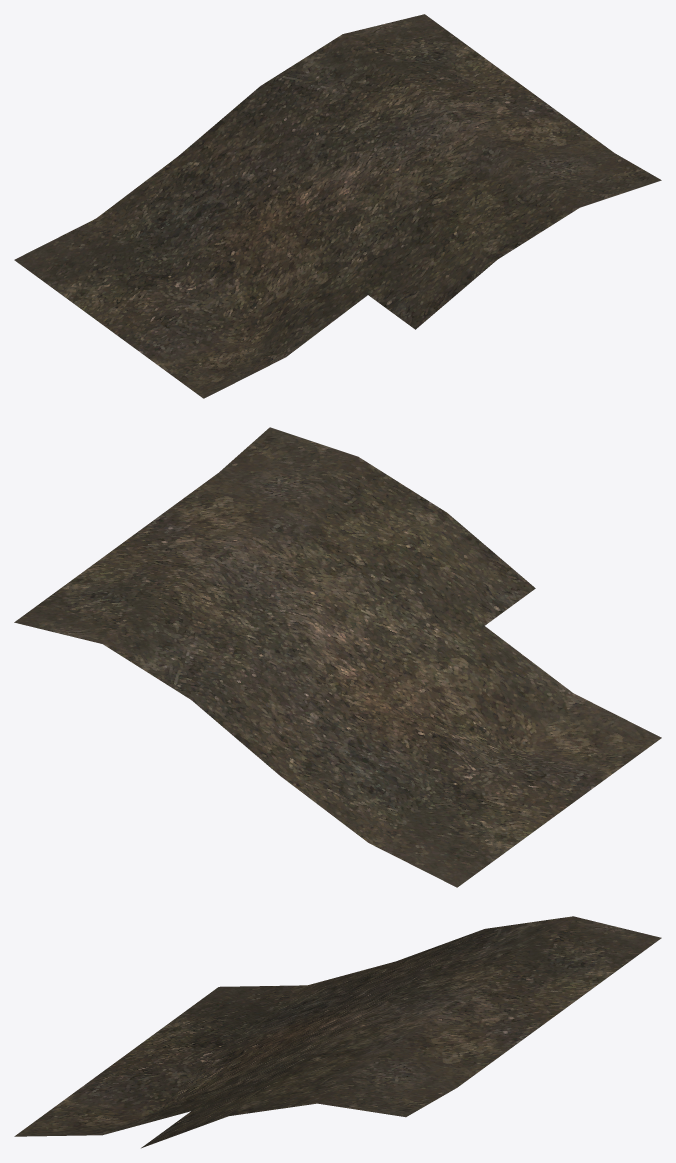
The model's file is blend_weeds06.fbx.
The picture shows the model from 3 angles, top to bottom: view 1: azimuth 30°, elevation 25°; view 2: azimuth 150°, elevation 25°; view 3: azimuth 330°, elevation 25°; orthographic projection. The views are drawn at different scales.
Parts seen in each view (by area): view 1: New_terrain/weeds_shadow; view 2: New_terrain/weeds_shadow; view 3: New_terrain/weeds_shadow.
Boxes of the visible parts, x1,y1,x2,y2 form: New_terrain/weeds_shadow: (14,14,661,398); New_terrain/weeds_shadow: (14,427,661,887); New_terrain/weeds_shadow: (14,916,661,1148).
Size of the model in its own units: 12.5 by 4.45 by 12.5.
